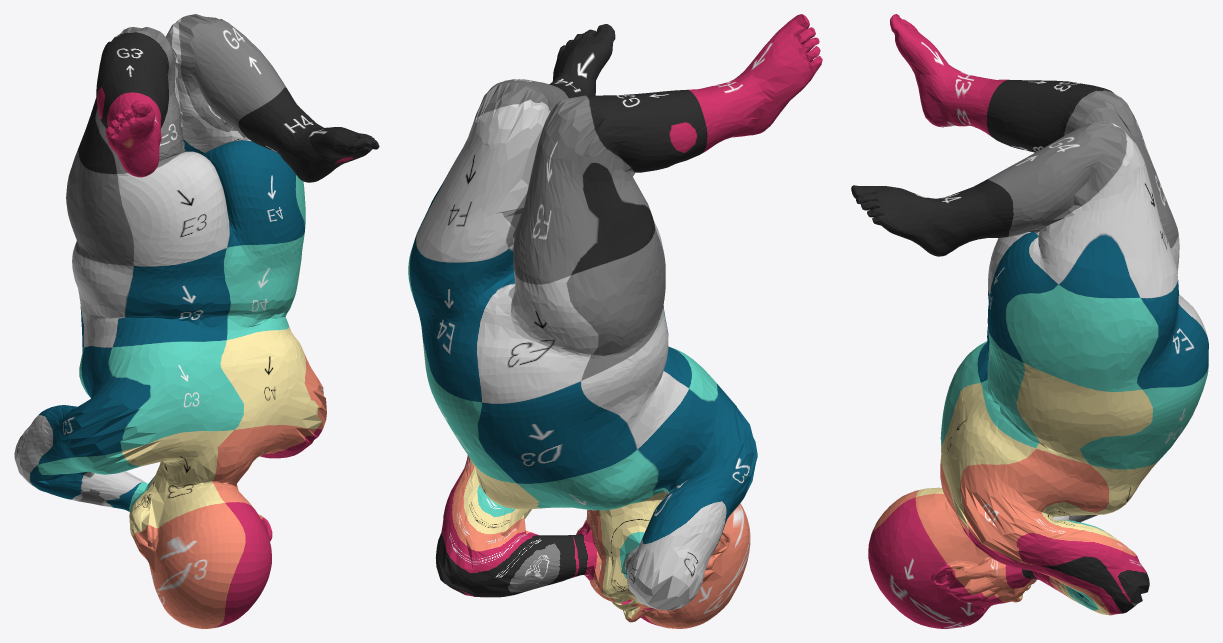
Rendered from kid00-kid06.obj.
The picture shows the model from 3 angles, left to right: view 1: azimuth 30°, elevation 25°; view 2: azimuth 150°, elevation 25°; view 3: azimuth 270°, elevation 25°; orthographic projection. The views are drawn at different scales.
Parts seen in each view (by area): view 1: kid00-kid06_export; view 2: kid00-kid06_export; view 3: kid00-kid06_export.
Boxes of the visible parts, x1=… form: kid00-kid06_export: x1=14, y1=14, x2=379, y2=628; kid00-kid06_export: x1=408, y1=14, x2=822, y2=628; kid00-kid06_export: x1=851, y1=14, x2=1208, y2=628.
Size of the model in its own units: 0.4151 by 0.8204 by 0.4696.
1 material, 1 textured.
